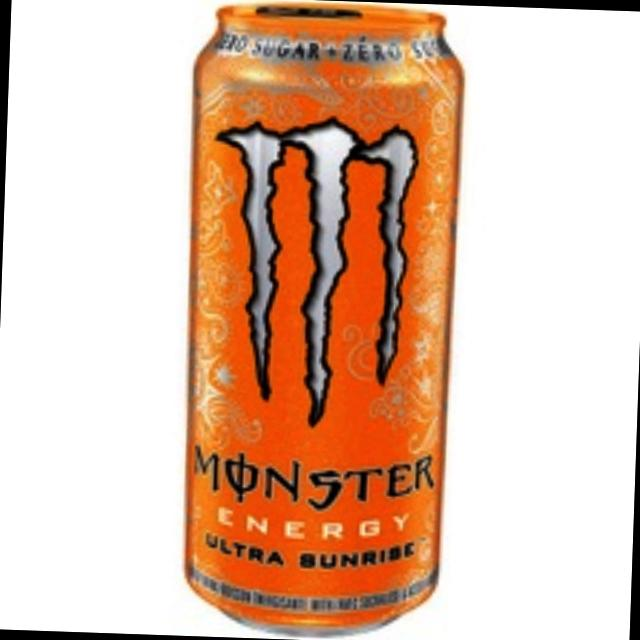Metal: (174, 0, 465, 640)
